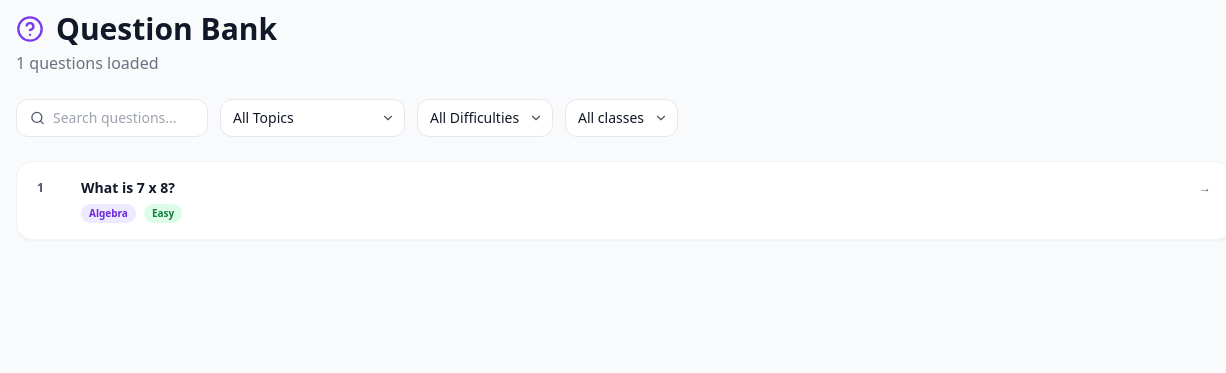
Test: the student filter › says when a question has aged out rather than just showing fewer
Select "Period 1" in the dropdown named "Filter by class" at point(622, 118), box [565,99,678,137]
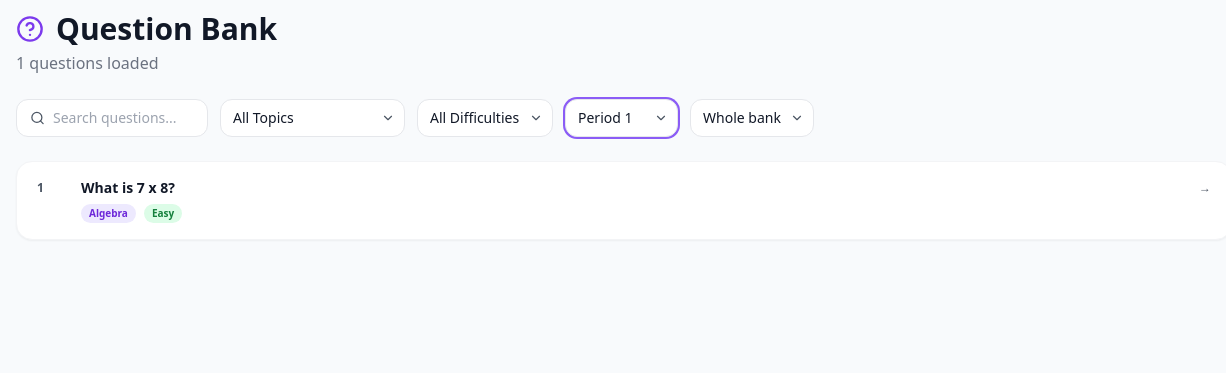
Select "Ada" in the dropdown named "Filter by student" at point(752, 118), box [690,99,814,137]
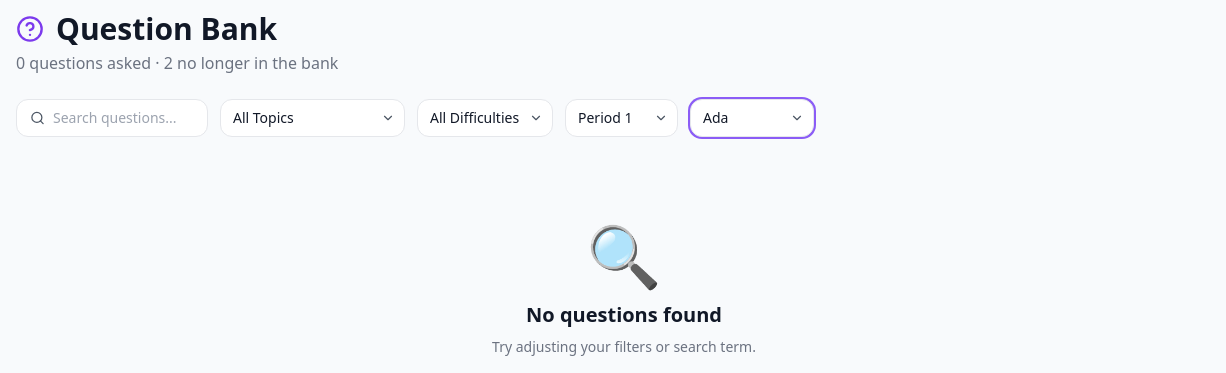
Now the text "0 questions asked · 2 no longer in the bank" is shown, box [16,52,338,74]
